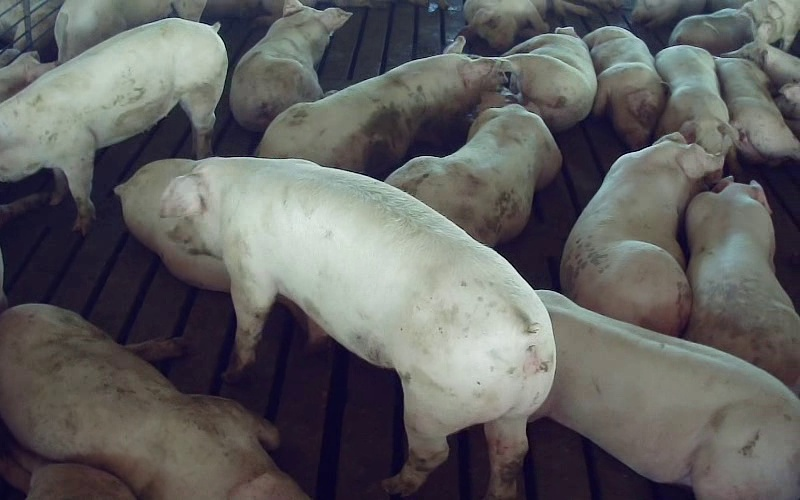pig: (161, 158, 555, 495), (535, 292, 799, 499), (0, 18, 227, 233), (255, 36, 510, 175), (560, 132, 722, 335), (386, 93, 561, 246), (685, 178, 799, 388), (230, 0, 351, 130), (655, 45, 738, 173), (583, 27, 665, 149), (54, 0, 206, 63), (504, 27, 596, 131), (715, 58, 799, 165), (463, 0, 590, 50), (669, 8, 752, 54)
